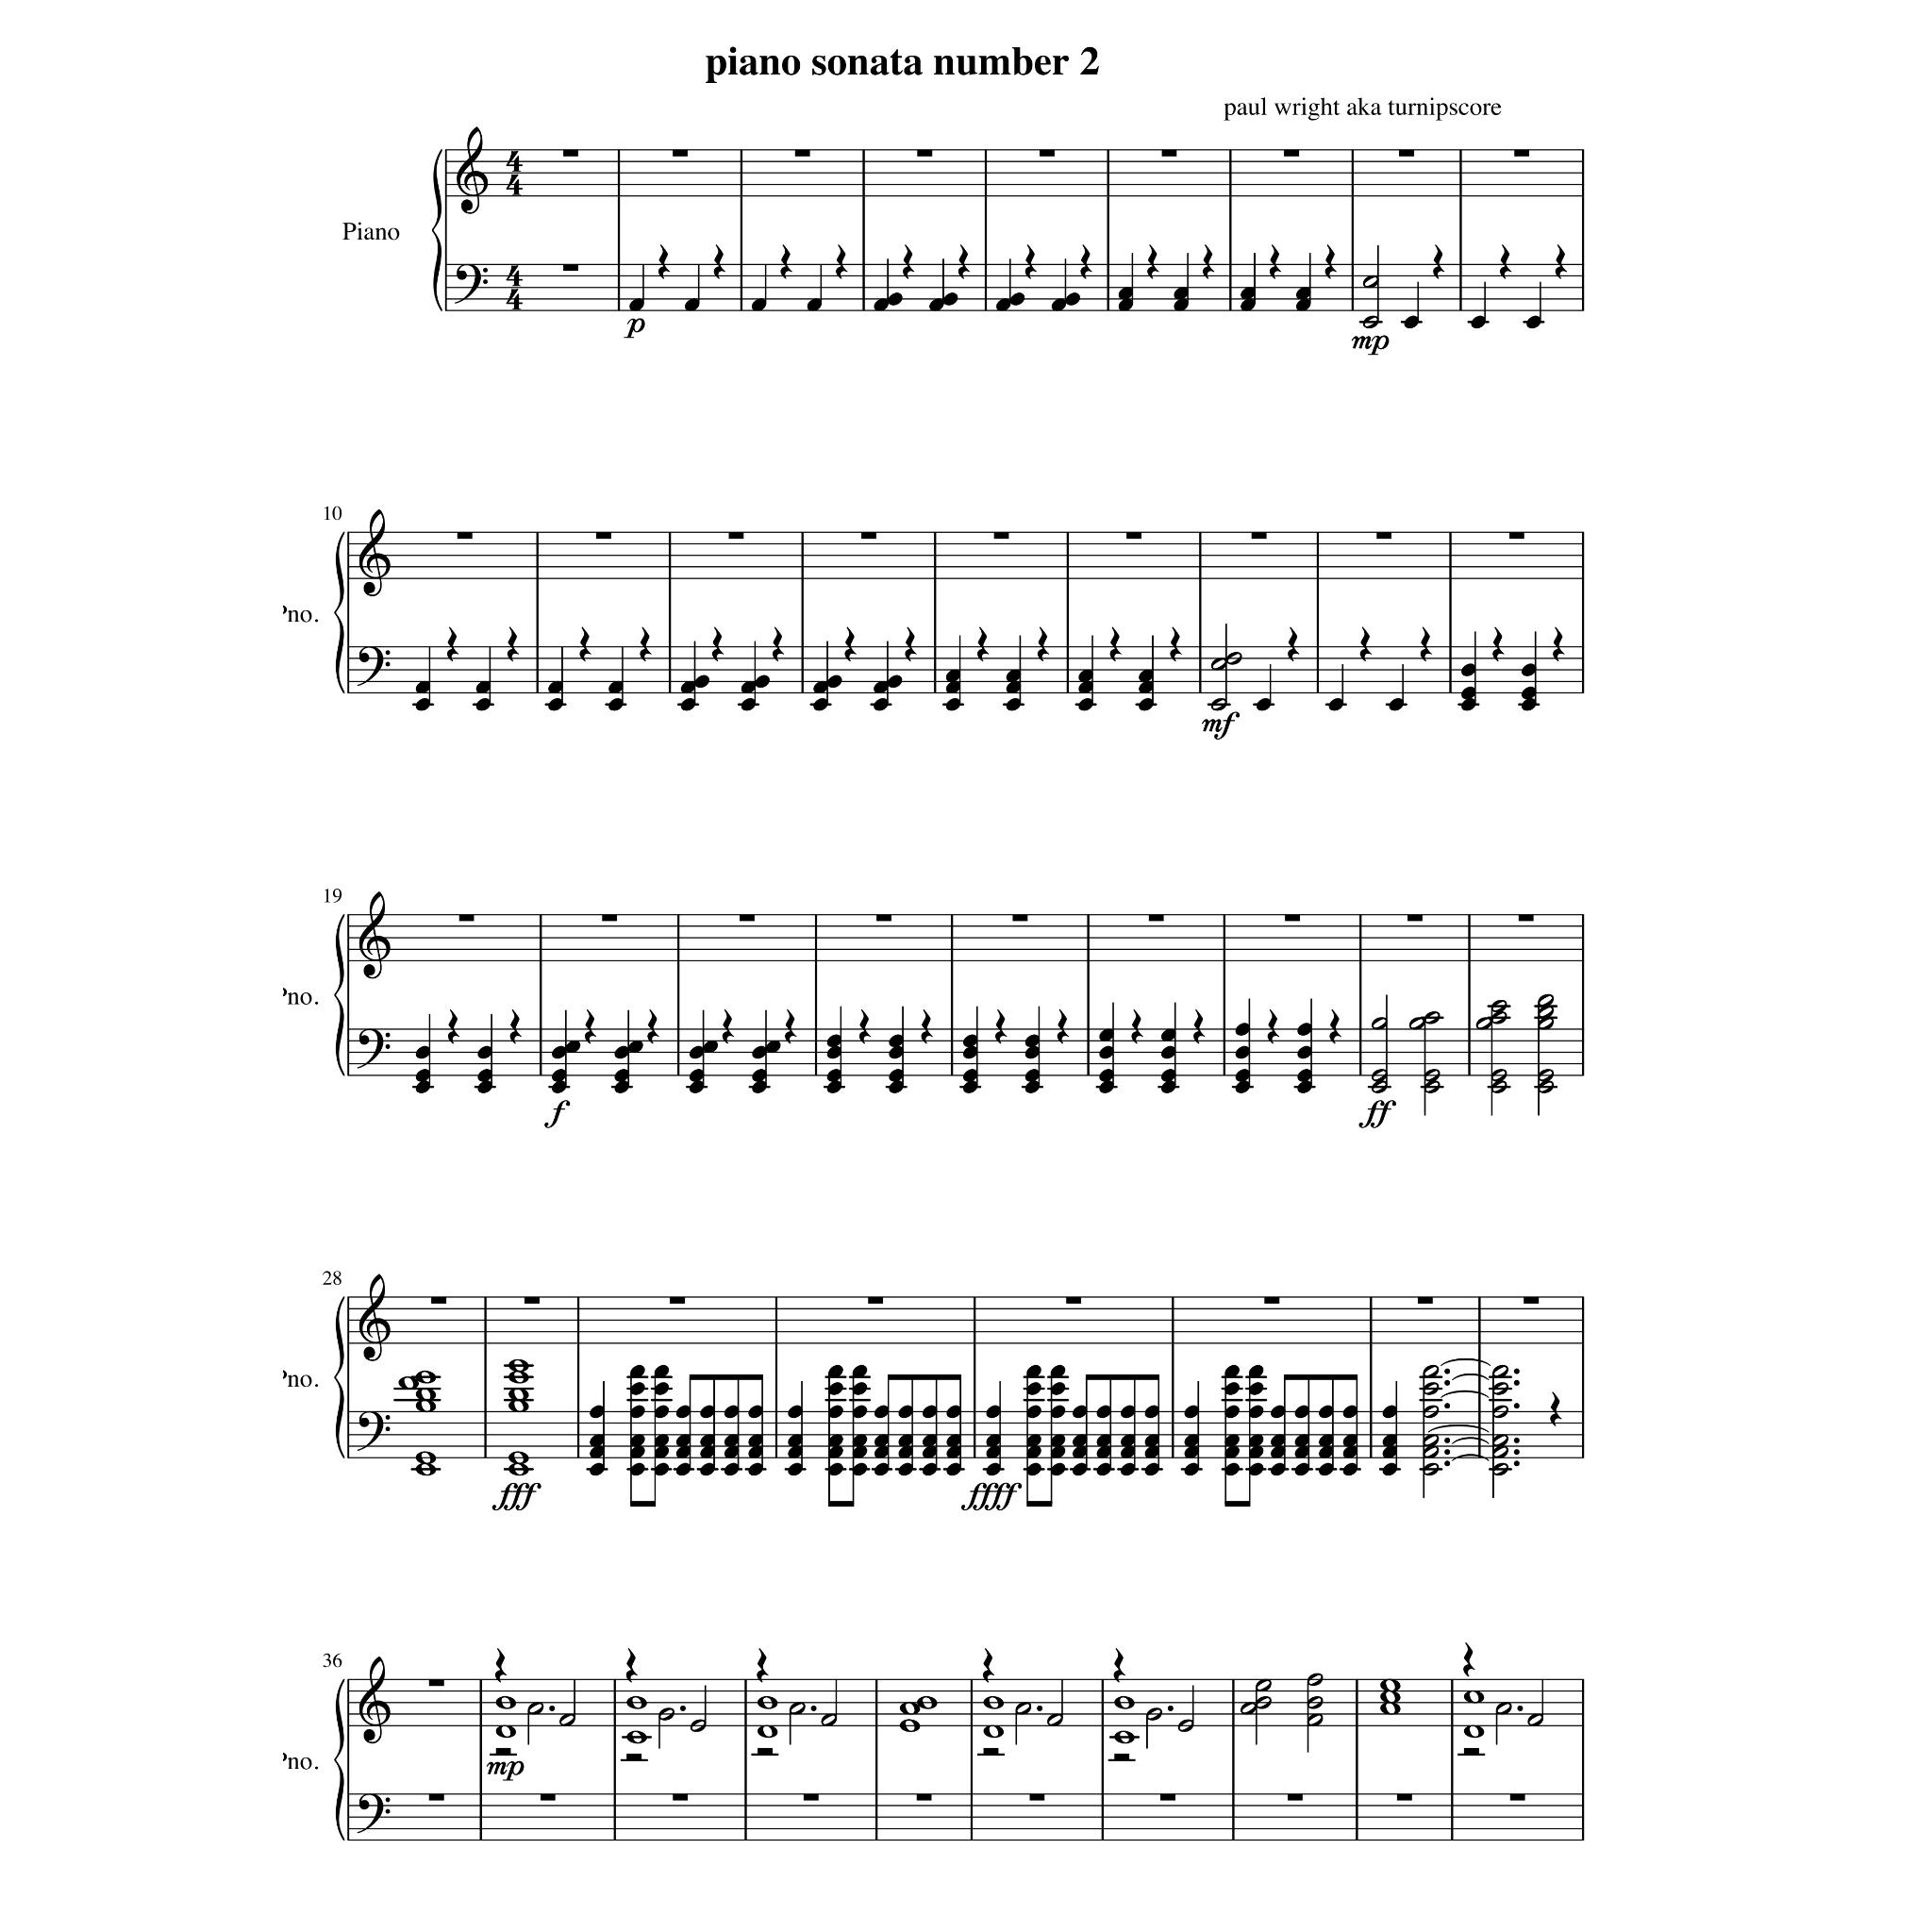brace: (333, 913, 345, 1077), (333, 1679, 345, 1842), (333, 533, 345, 694), (333, 1297, 345, 1458), (432, 150, 442, 313)
fClef: (453, 264, 488, 304), (357, 1028, 391, 1069), (357, 1410, 391, 1451), (357, 1792, 391, 1833), (357, 648, 391, 686)
gClef: (456, 126, 488, 216), (359, 508, 391, 598), (359, 890, 391, 978), (359, 1274, 391, 1362), (359, 1656, 391, 1744)
noteheadBlack: (886, 292, 904, 306), (1327, 697, 1345, 711), (474, 697, 492, 711), (872, 697, 890, 711), (1070, 1433, 1088, 1447), (1070, 1463, 1088, 1477), (1341, 1433, 1359, 1447), (1341, 1463, 1359, 1477), (872, 1433, 890, 1447), (872, 1463, 890, 1477), (1118, 287, 1134, 301), (1295, 287, 1311, 301), (1173, 287, 1189, 301), (1240, 287, 1256, 301), (941, 292, 957, 306), (1008, 292, 1024, 306), (1065, 292, 1081, 306), (1138, 669, 1154, 683), (1138, 697, 1154, 711), (1077, 669, 1093, 683), (1077, 697, 1093, 711), (1005, 669, 1021, 683), (1005, 697, 1021, 711), (1460, 663, 1476, 678), (1520, 663, 1536, 678), (1520, 686, 1536, 701), (1520, 697, 1536, 711), (1389, 697, 1405, 711), (1460, 686, 1476, 701), (1460, 697, 1476, 711), (609, 697, 625, 711), (547, 697, 563, 711), (679, 697, 695, 711), (414, 697, 430, 711), (945, 697, 961, 711), (945, 669, 961, 683), (740, 697, 755, 711), (812, 697, 828, 711), (1161, 1069, 1177, 1083), (1161, 1028, 1177, 1042), (1161, 1046, 1177, 1060), (1235, 1046, 1251, 1060), (1235, 1069, 1251, 1083), (1024, 1046, 1040, 1060), (1024, 1069, 1040, 1083), (1099, 1028, 1115, 1042), (1099, 1046, 1115, 1060), (1099, 1069, 1115, 1083), (1297, 1046, 1313, 1060), (1297, 1069, 1313, 1083), (564, 1040, 580, 1054), (550, 1046, 566, 1060), (550, 1069, 566, 1083), (702, 1040, 718, 1054), (688, 1046, 704, 1060), (628, 1040, 644, 1054), (614, 1046, 630, 1060), (614, 1069, 630, 1083), (478, 1046, 494, 1060), (478, 1069, 494, 1083), (688, 1069, 704, 1083), (414, 1046, 430, 1060), (414, 1069, 430, 1083), (888, 1069, 904, 1083), (888, 1046, 904, 1060), (962, 1069, 978, 1083), (962, 1046, 978, 1060), (766, 1040, 782, 1054), (752, 1046, 768, 1060), (752, 1069, 768, 1083), (826, 1046, 842, 1060), (826, 1069, 842, 1083), (1224, 1433, 1240, 1447), (1224, 1463, 1240, 1477), (1318, 1463, 1334, 1477), (1026, 1463, 1042, 1477), (1270, 1433, 1286, 1447), (1247, 1364, 1263, 1378), (1293, 1463, 1309, 1477), (1247, 1382, 1263, 1396), (1247, 1433, 1263, 1447), (1270, 1463, 1286, 1477), (1293, 1433, 1309, 1447), (1247, 1463, 1263, 1477), (1224, 1364, 1240, 1378), (1224, 1382, 1240, 1396), (1049, 1364, 1065, 1378), (1049, 1382, 1065, 1396), (1095, 1463, 1111, 1477), (1049, 1433, 1065, 1447), (1049, 1463, 1065, 1477), (1026, 1364, 1042, 1378), (1026, 1382, 1042, 1396), (1026, 1433, 1042, 1447), (1145, 1463, 1161, 1477), (1145, 1433, 1161, 1447), (1184, 1463, 1200, 1477), (1184, 1433, 1200, 1447), (1095, 1433, 1111, 1447), (1382, 1433, 1398, 1447), (1382, 1463, 1398, 1477), (1318, 1433, 1334, 1447), (630, 1463, 646, 1477), (630, 1433, 646, 1447), (630, 1382, 646, 1396), (630, 1364, 646, 1378), (653, 1463, 669, 1477), (653, 1433, 669, 1447), (653, 1382, 669, 1396), (699, 1433, 715, 1447), (699, 1463, 715, 1477), (724, 1433, 740, 1447), (676, 1433, 692, 1447), (676, 1463, 692, 1477), (653, 1364, 669, 1378), (589, 1433, 605, 1447), (589, 1463, 605, 1477), (724, 1463, 740, 1477), (922, 1463, 938, 1477), (897, 1433, 913, 1447), (897, 1463, 913, 1477), (922, 1433, 938, 1447), (748, 1463, 764, 1477), (851, 1364, 867, 1378), (985, 1433, 1001, 1447), (985, 1463, 1001, 1477), (947, 1433, 962, 1447), (947, 1463, 962, 1477), (826, 1463, 842, 1477), (851, 1382, 867, 1396), (787, 1463, 803, 1477), (787, 1433, 803, 1447), (851, 1433, 867, 1447), (851, 1463, 867, 1477), (748, 1433, 764, 1447), (826, 1364, 842, 1378), (826, 1382, 842, 1396), (826, 1433, 842, 1447), (872, 299, 890, 311), (474, 681, 492, 694), (872, 681, 890, 694), (1070, 1445, 1088, 1458), (1070, 1405, 1088, 1417), (1341, 1405, 1359, 1417), (1341, 1445, 1359, 1458), (872, 1405, 890, 1417), (872, 1445, 890, 1458), (1256, 697, 1270, 711), (1120, 1433, 1134, 1447), (1120, 1463, 1134, 1477), (1118, 299, 1134, 311), (1295, 299, 1311, 311), (1173, 299, 1189, 311), (1240, 299, 1256, 311), (1525, 317, 1541, 329), (1403, 317, 1419, 329), (1470, 317, 1486, 329), (750, 299, 766, 311), (683, 299, 699, 311), (807, 299, 823, 311), (628, 299, 644, 311), (927, 299, 943, 311), (996, 299, 1012, 311), (1051, 299, 1067, 311), (1138, 681, 1154, 694), (1077, 681, 1093, 694), (1005, 681, 1021, 694), (609, 681, 625, 694), (547, 681, 563, 694), (694, 676, 709, 688), (679, 681, 695, 694), (414, 681, 430, 694), (945, 681, 961, 694), (826, 676, 842, 688), (886, 676, 902, 688), (740, 681, 755, 694), (754, 676, 770, 688), (812, 681, 828, 694), (1161, 1081, 1177, 1093), (1235, 1081, 1251, 1093), (1235, 1023, 1251, 1035), (1024, 1035, 1040, 1047), (1024, 1081, 1040, 1093), (1099, 1081, 1115, 1093), (1297, 1023, 1313, 1035), (1297, 1081, 1313, 1093), (550, 1081, 566, 1093), (688, 1081, 704, 1093), (614, 1081, 630, 1093), (478, 1081, 494, 1093), (414, 1081, 430, 1093), (888, 1081, 904, 1093), (962, 1035, 978, 1047), (962, 1081, 978, 1093), (888, 1035, 904, 1047), (826, 1035, 842, 1047), (752, 1081, 768, 1093), (826, 1081, 842, 1093), (1224, 1445, 1240, 1458), (1224, 1405, 1240, 1417), (1270, 1445, 1286, 1458), (1270, 1405, 1286, 1417), (1318, 1445, 1334, 1458), (1247, 1405, 1263, 1417), (1293, 1445, 1309, 1458), (1247, 1445, 1263, 1458), (1293, 1405, 1309, 1417), (1095, 1445, 1111, 1458), (1049, 1405, 1065, 1417), (1049, 1445, 1065, 1458), (1026, 1405, 1042, 1417), (1026, 1445, 1042, 1458), (1145, 1445, 1161, 1458), (1145, 1405, 1161, 1417), (1184, 1445, 1200, 1458), (1184, 1405, 1200, 1417), (1095, 1405, 1111, 1417), (1382, 1445, 1398, 1458), (1382, 1405, 1398, 1417), (1318, 1405, 1334, 1417), (630, 1445, 646, 1458), (630, 1405, 646, 1417), (653, 1445, 669, 1458), (653, 1405, 669, 1417), (724, 1445, 740, 1458), (699, 1445, 715, 1458), (699, 1405, 715, 1417), (724, 1405, 740, 1417), (589, 1405, 605, 1417), (676, 1405, 692, 1417), (676, 1445, 692, 1458), (589, 1445, 605, 1458), (897, 1445, 913, 1458), (897, 1405, 913, 1417), (922, 1445, 938, 1458), (922, 1405, 938, 1417), (985, 1405, 1001, 1417), (985, 1445, 1001, 1458), (947, 1405, 962, 1417), (947, 1445, 962, 1458), (826, 1445, 842, 1458), (787, 1445, 803, 1458), (787, 1405, 803, 1417), (851, 1445, 867, 1458), (748, 1445, 764, 1458), (748, 1405, 764, 1417), (851, 1405, 867, 1417), (826, 1405, 842, 1417), (1120, 1405, 1134, 1417), (1120, 1445, 1134, 1458)
noteheadHalf: (1210, 656, 1228, 671), (1210, 697, 1228, 711), (1490, 1000, 1507, 1014), (1490, 1069, 1507, 1083), (1491, 1364, 1509, 1378), (1491, 1382, 1509, 1396), (1491, 1433, 1509, 1447), (1491, 1463, 1509, 1477), (1422, 1364, 1440, 1378), (1422, 1382, 1440, 1396), (1422, 1433, 1440, 1447), (1422, 1463, 1440, 1477), (1145, 1707, 1162, 1721), (1177, 1718, 1194, 1732), (1046, 1713, 1063, 1727), (1306, 1713, 1323, 1727), (819, 1713, 837, 1727), (1226, 651, 1242, 665), (1537, 1005, 1553, 1019), (1537, 1069, 1553, 1083), (1371, 1069, 1387, 1083), (1424, 1069, 1440, 1083), (1527, 1713, 1543, 1727), (559, 1713, 575, 1727), (658, 1707, 674, 1721), (690, 1718, 706, 1732), (1362, 276, 1380, 288), (1362, 317, 1380, 329), (1490, 1012, 1507, 1024), (1476, 1017, 1493, 1030), (1490, 1081, 1507, 1093), (1408, 1017, 1426, 1030), (1491, 1405, 1509, 1417), (1491, 1445, 1509, 1458), (1422, 1405, 1440, 1417), (1422, 1445, 1440, 1458), (1254, 1679, 1272, 1691), (1254, 1697, 1272, 1709), (1014, 1702, 1031, 1714), (1495, 1702, 1513, 1714), (1306, 1674, 1323, 1686), (1306, 1697, 1323, 1709), (527, 1702, 545, 1714), (1424, 1012, 1440, 1024), (1537, 994, 1553, 1007), (1537, 1017, 1553, 1030), (1537, 1081, 1553, 1093), (1371, 1017, 1387, 1030), (1371, 1081, 1387, 1093), (1424, 1081, 1440, 1093), (1240, 1702, 1256, 1714), (789, 1702, 805, 1714)
noteheadWhole: (414, 1463, 437, 1477), (414, 1451, 437, 1465), (414, 1399, 437, 1414), (414, 1387, 437, 1401), (1113, 1695, 1136, 1709), (1113, 1730, 1136, 1744), (982, 1695, 1005, 1709), (982, 1723, 1005, 1737), (755, 1695, 778, 1709), (755, 1723, 778, 1737), (398, 1376, 419, 1391), (508, 1359, 529, 1373), (508, 1387, 529, 1401), (508, 1399, 529, 1414), (508, 1451, 529, 1465), (508, 1463, 529, 1477), (1380, 1679, 1401, 1693), (1463, 1723, 1484, 1737), (626, 1695, 648, 1709), (626, 1730, 648, 1744), (495, 1695, 517, 1709), (495, 1723, 517, 1737), (916, 1695, 938, 1709), (899, 1718, 920, 1732), (414, 1371, 437, 1384), (508, 1371, 529, 1384), (1380, 1691, 1401, 1704), (1380, 1702, 1401, 1714), (1463, 1691, 1484, 1704), (899, 1702, 920, 1714)
restHalf: (1108, 1753, 1136, 1762), (1456, 1748, 1484, 1757), (619, 1753, 648, 1762), (488, 1748, 517, 1757), (977, 1748, 1005, 1757), (750, 1748, 778, 1757)
restQuarter: (1431, 244, 1445, 280), (771, 626, 786, 662), (1550, 1391, 1562, 1428), (1269, 244, 1281, 280), (1323, 244, 1336, 280), (1146, 244, 1159, 280), (1555, 244, 1568, 280), (713, 244, 725, 280), (835, 244, 847, 280), (656, 244, 669, 280), (780, 244, 793, 280), (1079, 244, 1092, 280), (957, 244, 970, 280), (1024, 244, 1037, 280), (902, 244, 915, 280), (1169, 626, 1182, 662), (1037, 626, 1049, 662), (977, 626, 989, 662), (1109, 626, 1122, 662), (1491, 626, 1504, 662), (1552, 626, 1564, 662), (1419, 626, 1431, 662), (1361, 626, 1373, 662), (579, 626, 591, 662), (639, 626, 651, 662), (508, 626, 520, 662), (446, 626, 458, 662), (904, 626, 916, 662), (844, 626, 856, 662), (711, 626, 724, 662), (1192, 1008, 1205, 1044), (1131, 1008, 1143, 1044), (1056, 1008, 1069, 1044), (994, 1008, 1007, 1044), (1267, 1008, 1279, 1044), (1329, 1008, 1341, 1044), (584, 1008, 596, 1044), (510, 1008, 522, 1044), (446, 1008, 458, 1044), (858, 1008, 870, 1044), (920, 1008, 932, 1044), (722, 1008, 734, 1044), (784, 1008, 796, 1044), (1113, 1649, 1125, 1684), (1463, 1642, 1476, 1677), (625, 1649, 637, 1684), (495, 1649, 508, 1684), (982, 1649, 994, 1684), (755, 1649, 768, 1684), (1203, 244, 1214, 280), (1500, 244, 1511, 280), (1288, 626, 1299, 662), (648, 1008, 658, 1044)
restWhole: (563, 264, 579, 272), (1398, 150, 1415, 157), (915, 1794, 932, 1801), (801, 1794, 819, 1801), (1028, 1794, 1046, 1801), (672, 150, 688, 157), (563, 150, 579, 157), (794, 150, 810, 157), (916, 150, 932, 157), (1039, 150, 1054, 157), (1161, 150, 1177, 157), (1283, 150, 1299, 157), (1514, 150, 1530, 157), (993, 533, 1008, 540), (862, 533, 878, 540), (1125, 533, 1141, 540), (596, 533, 612, 540), (727, 533, 743, 540), (1376, 533, 1392, 540), (1251, 533, 1267, 540), (1507, 533, 1523, 540), (456, 533, 472, 540), (876, 915, 892, 922), (1148, 915, 1164, 922), (1012, 915, 1028, 922), (740, 915, 755, 922), (602, 915, 617, 922), (1284, 915, 1300, 922), (1407, 915, 1422, 922), (1518, 915, 1534, 922), (458, 915, 474, 922), (524, 1297, 540, 1304), (1263, 1297, 1279, 1304), (669, 1297, 685, 1304), (867, 1297, 883, 1304), (1065, 1297, 1081, 1304), (1417, 1297, 1433, 1304), (1523, 1297, 1539, 1304), (430, 1297, 446, 1304), (672, 1794, 688, 1801), (540, 1794, 556, 1801), (1288, 1794, 1304, 1801), (1161, 1794, 1177, 1801), (1396, 1794, 1412, 1801), (1509, 1794, 1525, 1801), (428, 1794, 444, 1801), (428, 1679, 444, 1686)
